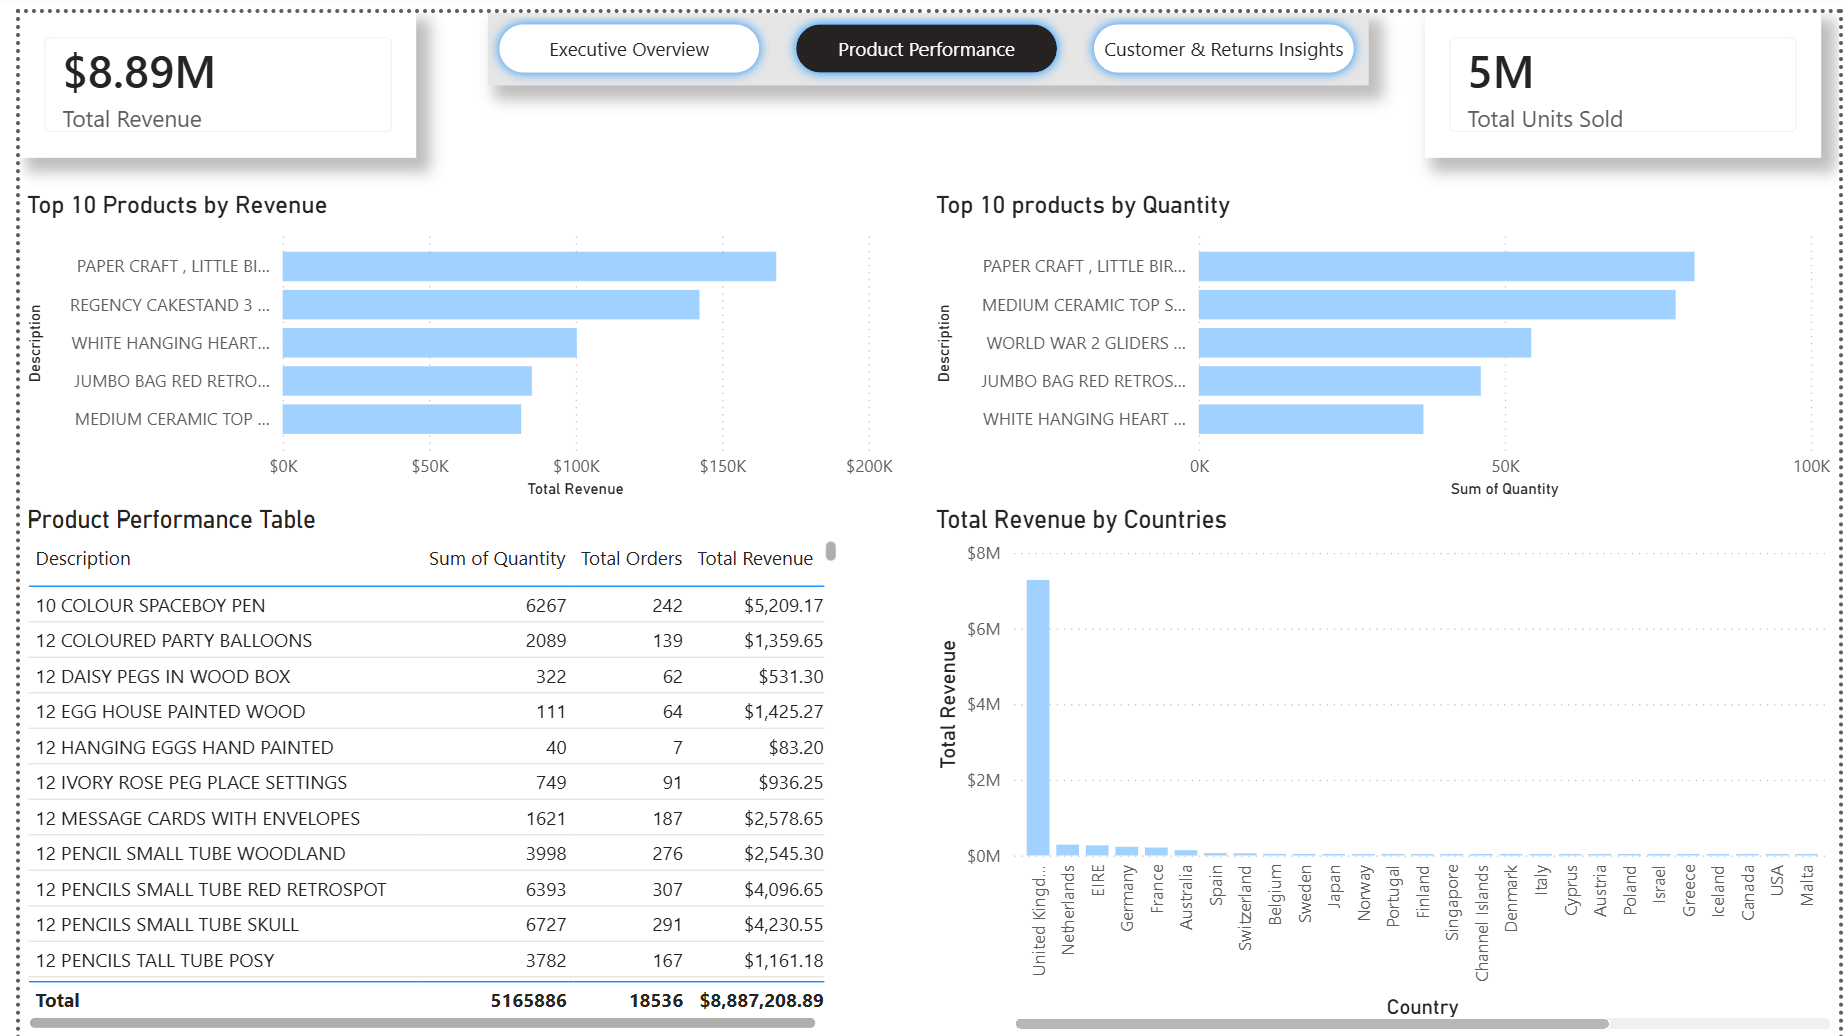

The page's visual inventory and layout, read from the dashboard file:
{"tool":"powerbi","page":{"name":"Product Performance","canvas":[1280,720],"ordinal":1},"visuals":[{"type":"cardVisual","fields":{"Data":["Sales_table.total revenue"]},"box":[0,0,279.2,102],"z":0},{"type":"cardVisual","fields":{"Data":["Sales_table.Total Units Sold"]},"box":[989.3,0,279.2,102],"z":2000},{"type":"clusteredBarChart","title":"Top 10 Products by Revenue","fields":{"Category":["Sales_table.Description"],"Y":["Sales_table.total revenue"]},"box":[0,124.9,619.6,220.6],"z":3000},{"type":"clusteredBarChart","title":"Top 10 products by Quantity ","fields":{"Category":["Sales_table.Description"],"Y":["Sum(Sales_table.Quantity)"]},"box":[640,124.9,640,220.6],"z":4000},{"type":"tableEx","title":"Product Performance Table","fields":{"Values":["Sales_table.Description","Sum(Sales_table.Quantity)","Sales_table.Total Orders","Sales_table.total revenue"]},"box":[0,346,580.3,373.6],"z":5000},{"type":"clusteredColumnChart","title":"Total Revenue by Countries","fields":{"Category":["Sales_table.Country"],"Y":["Sales_table.total revenue"]},"box":[640,346,640,373.6],"z":6000},{"type":"pageNavigator","box":[330.2,0,619.6,51],"z":6001}]}

Visuals, with their boxes in screenshot pixels (x1, y1, x2, y2), scaled from the page's 1280x720 canvas onto the 1844x1036 screenshot:
cardVisual - Sales_table.total revenue: (left=0, top=0, right=402, bottom=147)
cardVisual - Sales_table.Total Units Sold: (left=1425, top=0, right=1827, bottom=147)
"Top 10 Products by Revenue" clusteredBarChart: (left=0, top=180, right=893, bottom=497)
"Top 10 products by Quantity " clusteredBarChart: (left=922, top=180, right=1843, bottom=497)
"Product Performance Table" tableEx: (left=0, top=498, right=836, bottom=1035)
"Total Revenue by Countries" clusteredColumnChart: (left=922, top=498, right=1843, bottom=1035)
pageNavigator: (left=476, top=0, right=1368, bottom=73)
